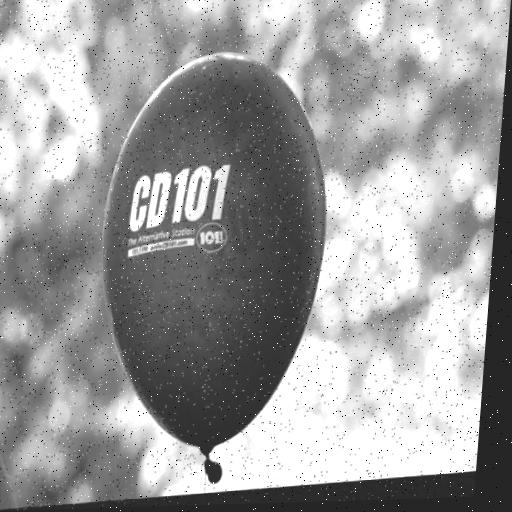balloon: (77, 37, 345, 487)
